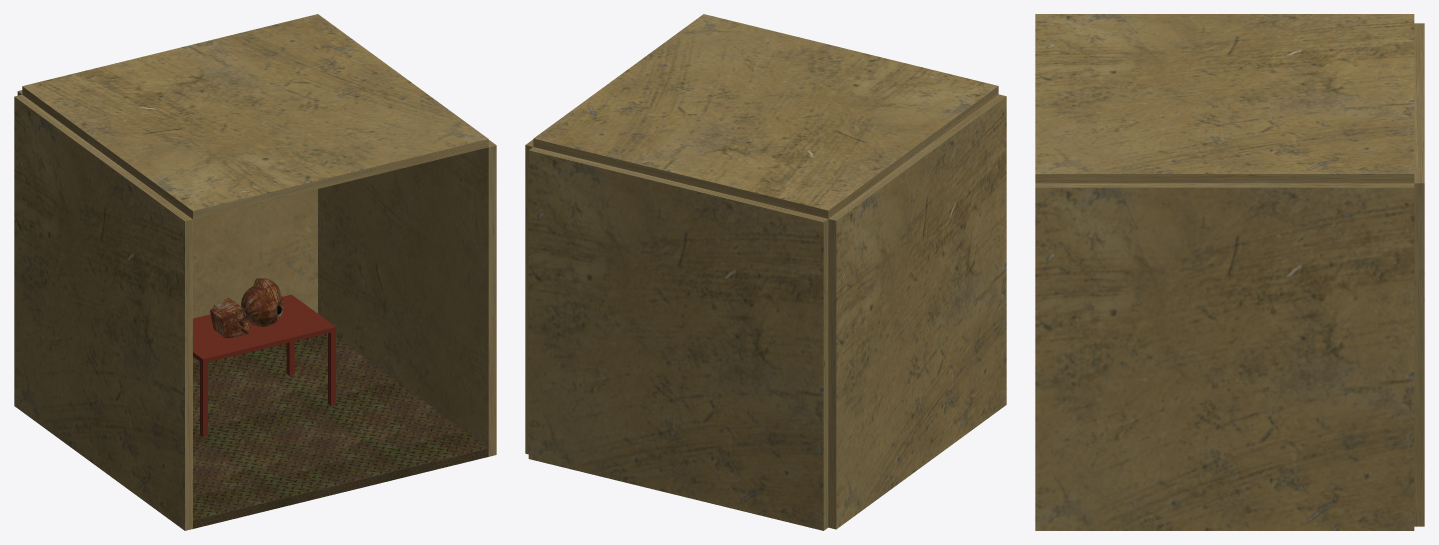
File: Final Room.fbx
3 views of the same model, side by side, from view 1: azimuth 30°, elevation 25°; view 2: azimuth 150°, elevation 25°; view 3: azimuth 270°, elevation 25° (orthographic). The views are drawn at different scales.
Parts seen in each view (by area): view 1: Cube.003, Cube.004, Cube.001, Cube, Cube.002, Cube.007, Icosphere.001; view 2: Cube.002, Cube.003, Cube.004, Cube.001; view 3: Cube.001, Cube.004, Cube.002.
Part boxes in pixels (x1,y1,x2,y2): Cube.003: (14, 94, 192, 530); Cube.004: (22, 14, 488, 219); Cube.001: (318, 140, 496, 456); Cube: (193, 333, 488, 528); Cube.002: (17, 90, 317, 318); Cube.007: (193, 294, 335, 436); Icosphere.001: (210, 278, 283, 338); Cube.002: (528, 147, 828, 530); Cube.003: (828, 94, 1006, 529); Cube.004: (533, 14, 998, 218); Cube.001: (525, 139, 533, 454); Cube.001: (1035, 183, 1414, 530); Cube.004: (1035, 14, 1414, 183); Cube.002: (1414, 23, 1424, 526).
Bounding box in the file's own units: 1583 × 1542 × 1542.
